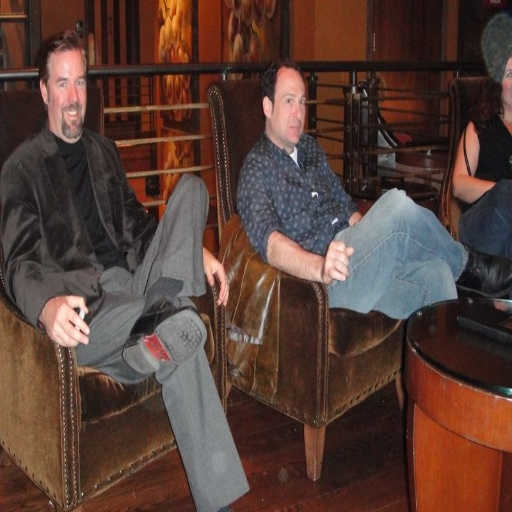hand: (42, 293, 90, 349), (318, 234, 360, 287), (203, 245, 230, 307)
